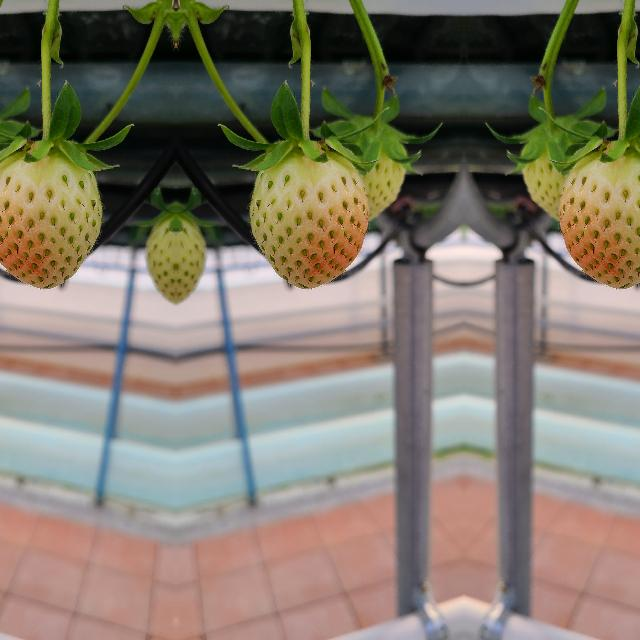Health_25: (136, 208, 176, 308), (174, 208, 213, 308)
Health_50: (248, 150, 368, 288), (0, 150, 101, 288), (558, 150, 640, 288)
